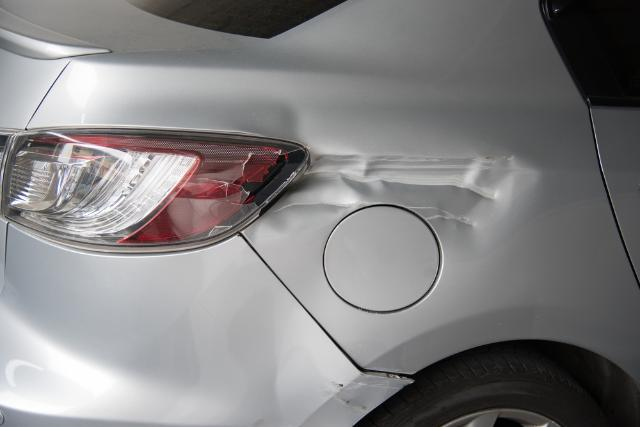dent: (230, 98, 542, 263)
lamp broken: (0, 129, 309, 253)
scratch: (316, 375, 406, 413)
